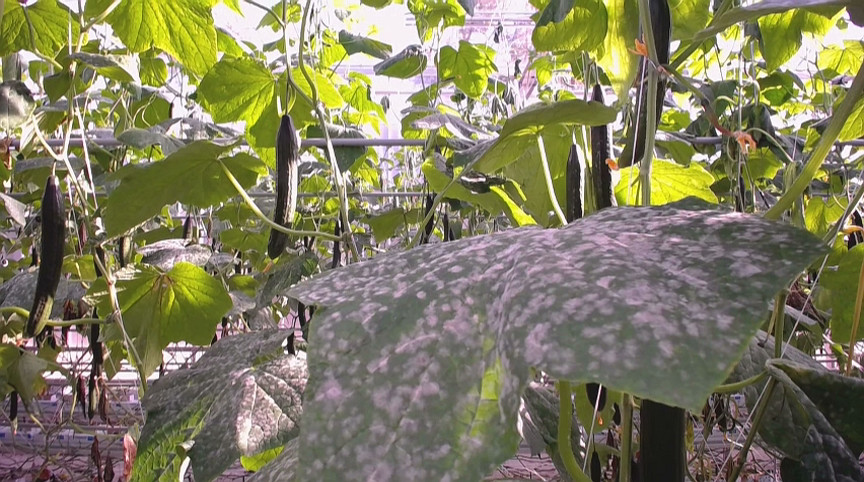cucumber: (618, 2, 672, 166), (27, 175, 65, 338), (267, 114, 298, 259), (639, 397, 686, 481), (590, 86, 618, 208), (565, 144, 586, 224)
